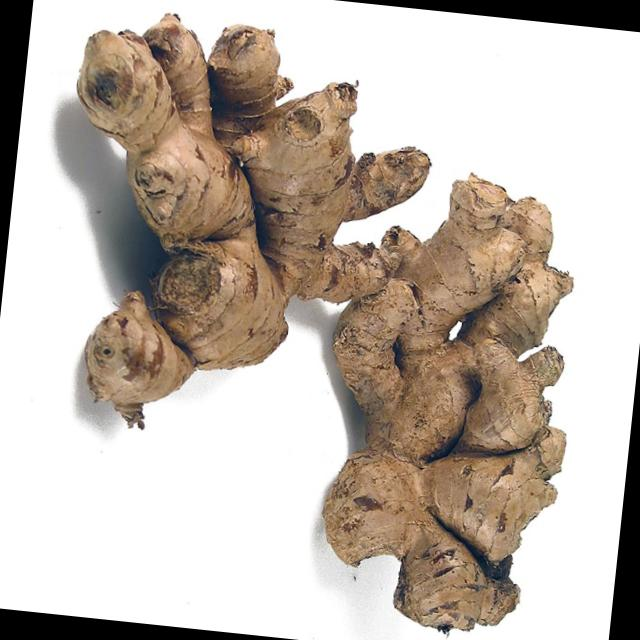lemon: (55, 0, 516, 451), (280, 134, 599, 640)
